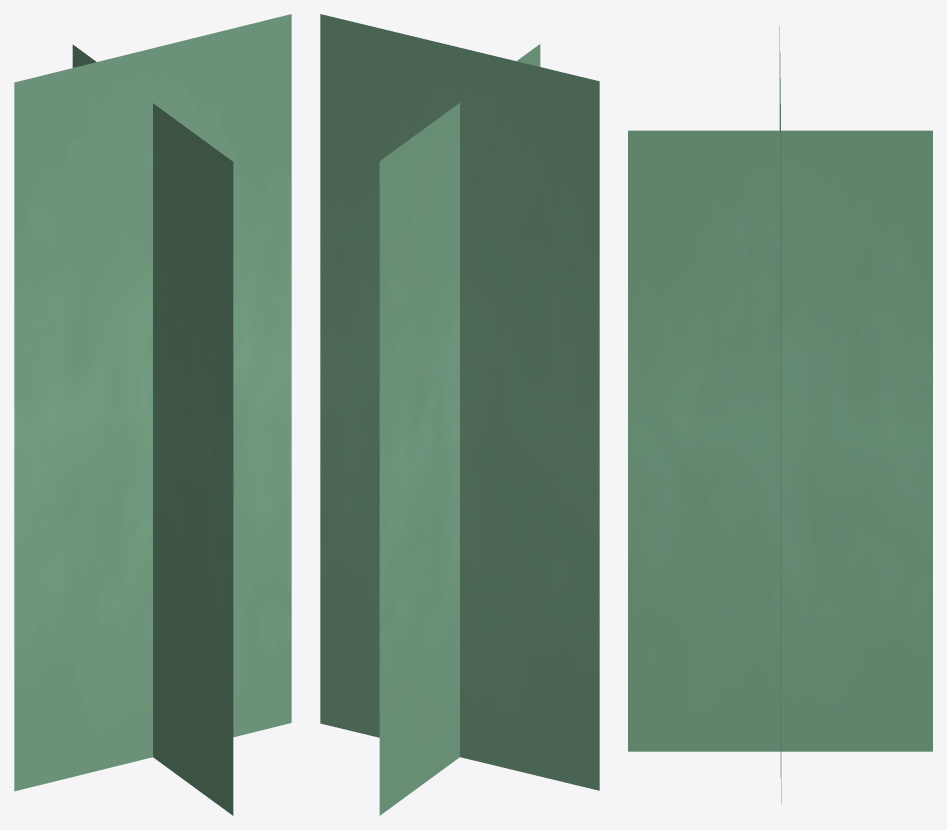
Rendered from fog.fbx.
3 views of the same model, side by side, from view 1: azimuth 30°, elevation 25°; view 2: azimuth 150°, elevation 25°; view 3: azimuth 270°, elevation 25° (orthographic). The views are drawn at different scales.
Parts seen in each view (by area): view 1: fognolight; view 2: fognolight; view 3: fognolight.
Part boxes in pixels (box(x1,y1,x2,y2)): fognolight: box(14, 14, 291, 815); fognolight: box(320, 14, 599, 815); fognolight: box(628, 26, 932, 803).
Bounding box in the file's own units: 11.69 × 28.46 × 11.69.
